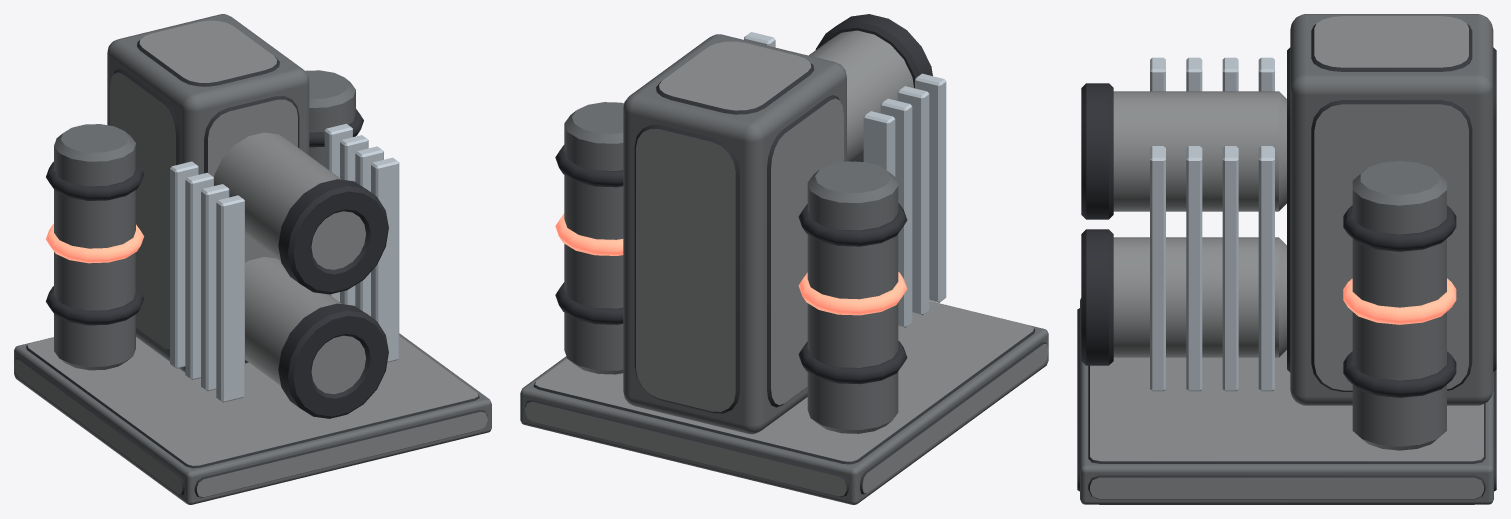
The model's file is R4X_DoubleShotOverdrive.glb.
3 renders of one model, left to right at view 1: azimuth 30°, elevation 25°; view 2: azimuth 150°, elevation 25°; view 3: azimuth 270°, elevation 25°, orthographic. The views are drawn at different scales.
Visible parts, largest first — view 1: R4X_DoubleShotOverdrive_Body; view 2: R4X_DoubleShotOverdrive_Body; view 3: R4X_DoubleShotOverdrive_Body.
Part boxes in pixels (<box>): R4X_DoubleShotOverdrive_Body: <box>14,14,491,504</box>; R4X_DoubleShotOverdrive_Body: <box>520,14,1048,504</box>; R4X_DoubleShotOverdrive_Body: <box>1077,14,1496,504</box>.
Bounding box in the file's own units: 0.52 × 0.52 × 0.52.
